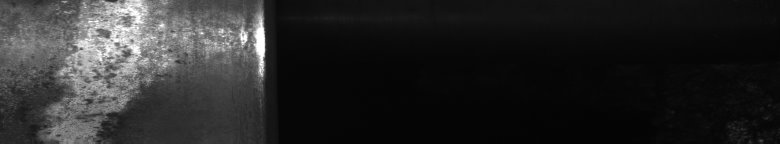kb: (28, 6, 252, 136)
